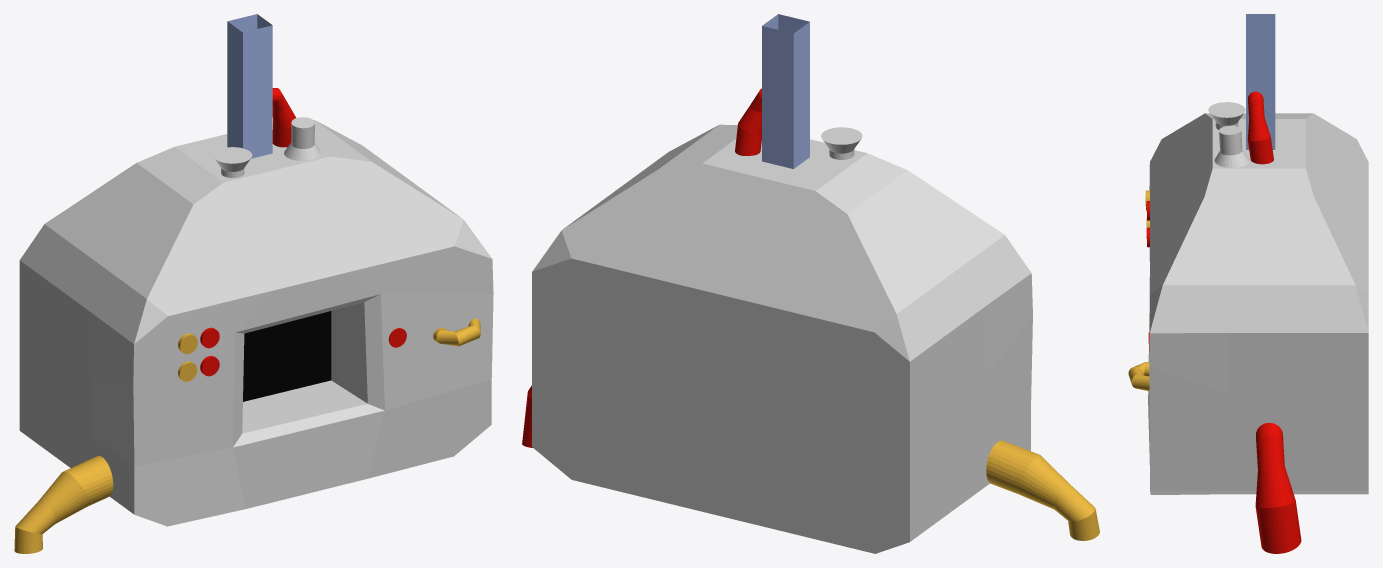
File: Energy Machine.fbx
The picture shows the model from 3 angles, left to right: view 1: azimuth 30°, elevation 25°; view 2: azimuth 150°, elevation 25°; view 3: azimuth 270°, elevation 25°; orthographic projection. The views are drawn at different scales.
Visible parts, largest first — view 1: Energy machine; view 2: Energy machine; view 3: Energy machine.
Part boxes in pixels (bbox=[...]): Energy machine: bbox=[14, 14, 493, 553]; Energy machine: bbox=[522, 14, 1099, 553]; Energy machine: bbox=[1128, 14, 1368, 553].
Size of the model in its own units: 249 by 212 by 109.
